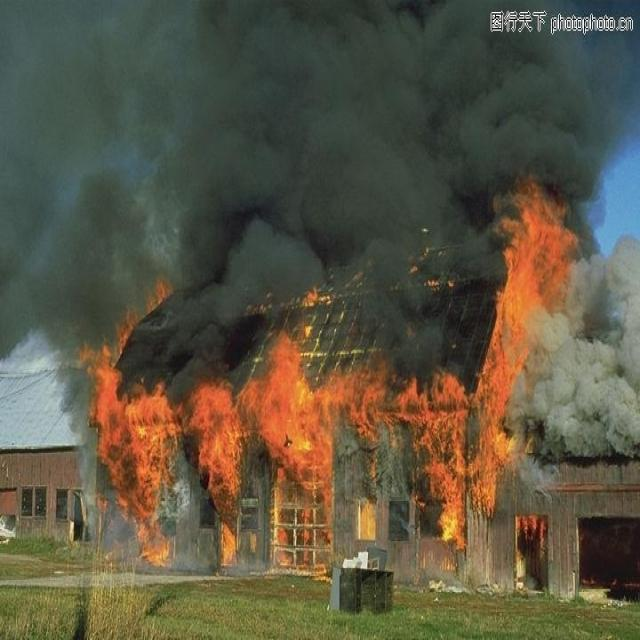Fire: (79, 172, 581, 584)
Smoke: (1, 1, 640, 578)
